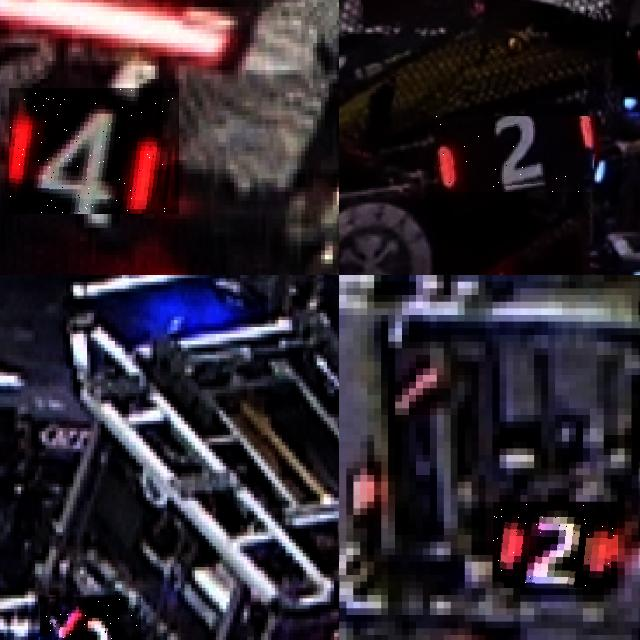R2: (434, 116, 596, 192), (493, 502, 617, 588), (40, 596, 141, 640)
R4: (9, 88, 179, 214)
